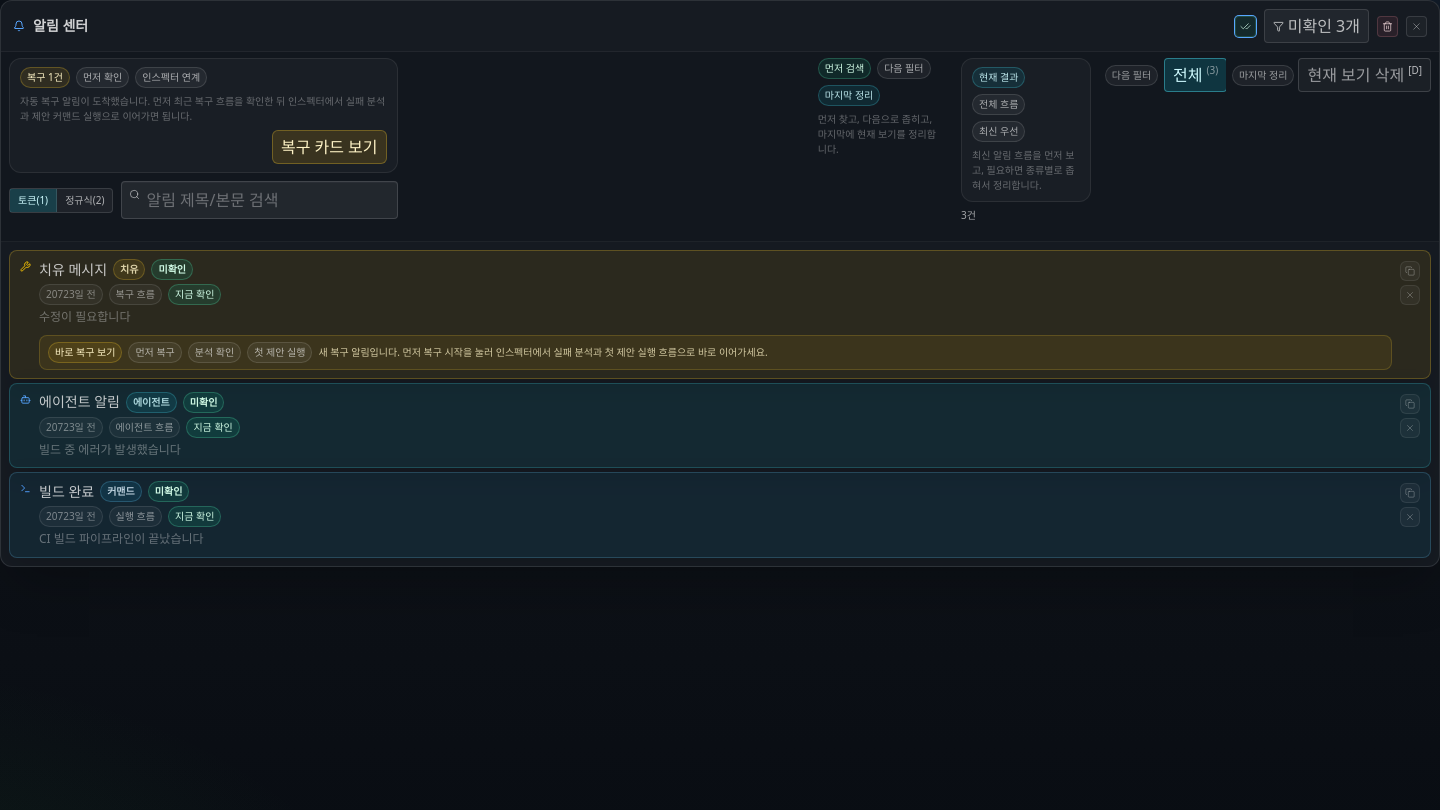
it: NotificationCenter › 검색어 매칭 개수를 제목/본문으로 분리해 표시한다
Type "빌드" into the field named "알림 검색".
click(260, 200); type("빌드")  # box [122,181,398,219]
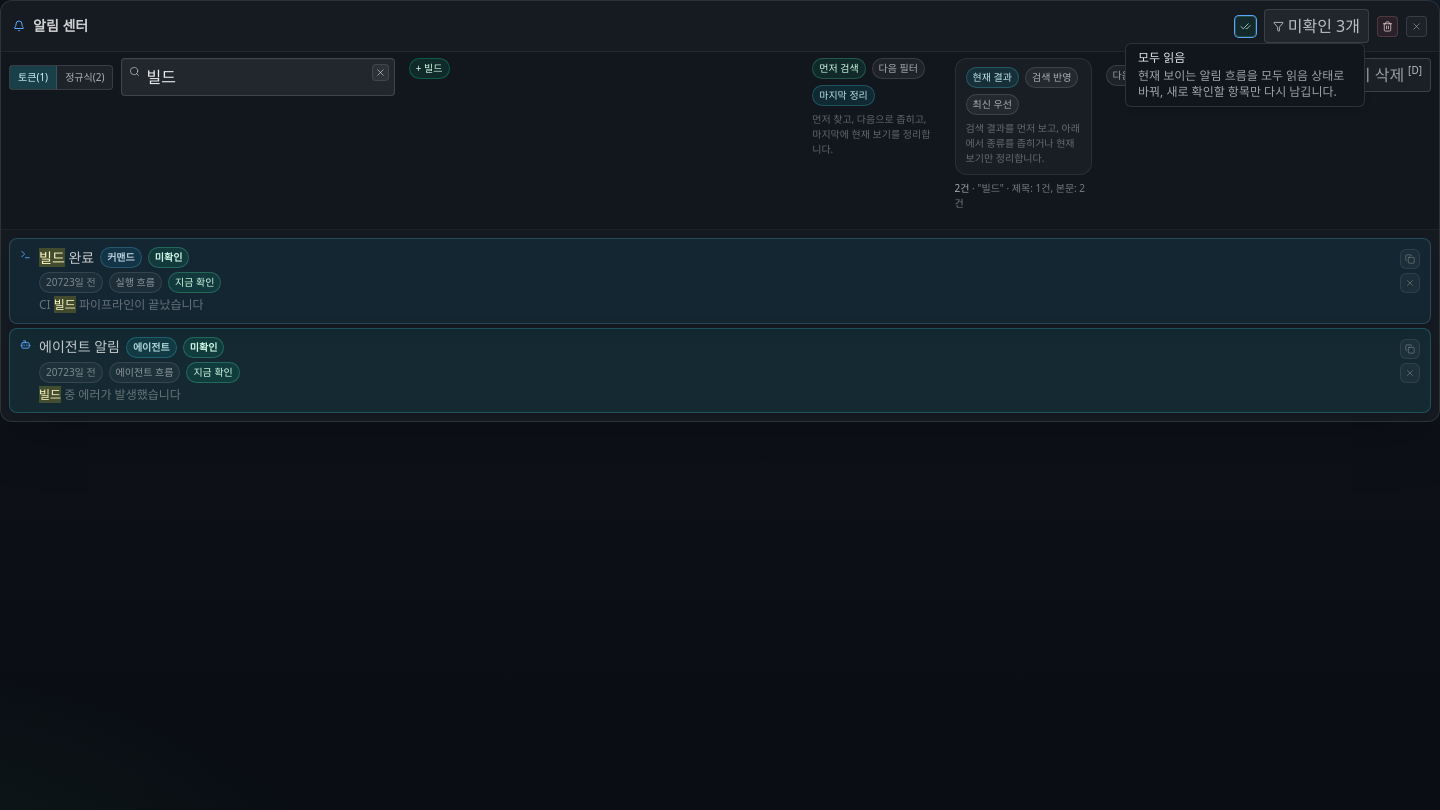
Now the text "2건" is shown, box [954,181,969,195]
Now the text "2건 · \"빌드\" · 제목: 1건, 본문: 2건" is shown, box [954,175,1092,217]
